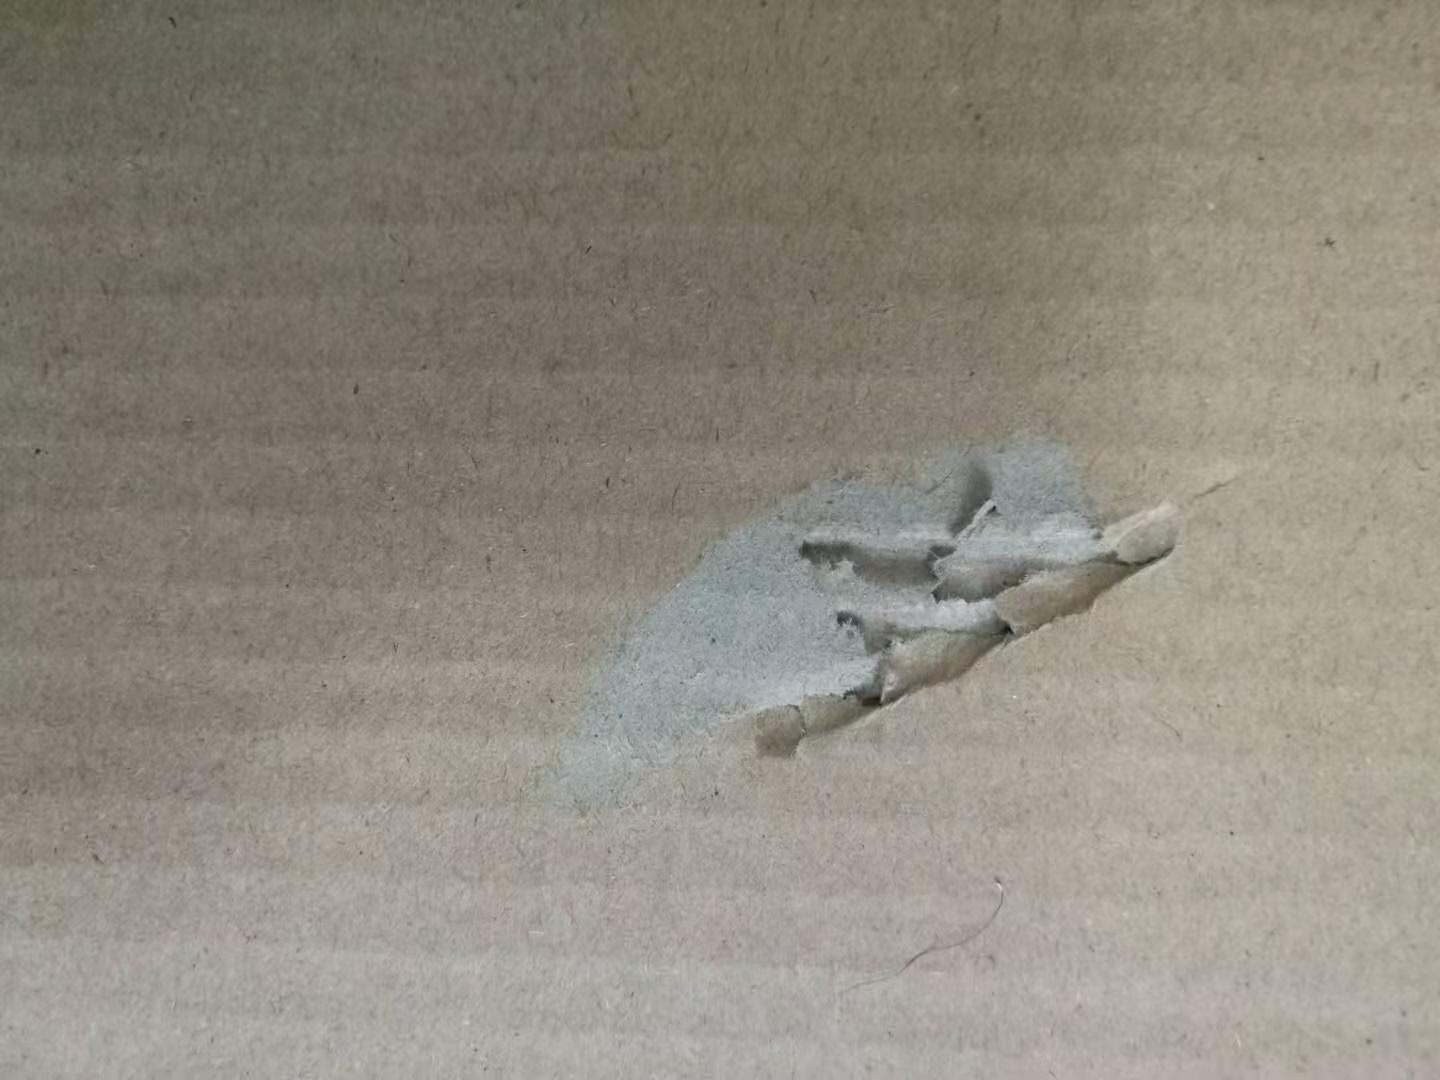defect: (509, 378, 1311, 835)
